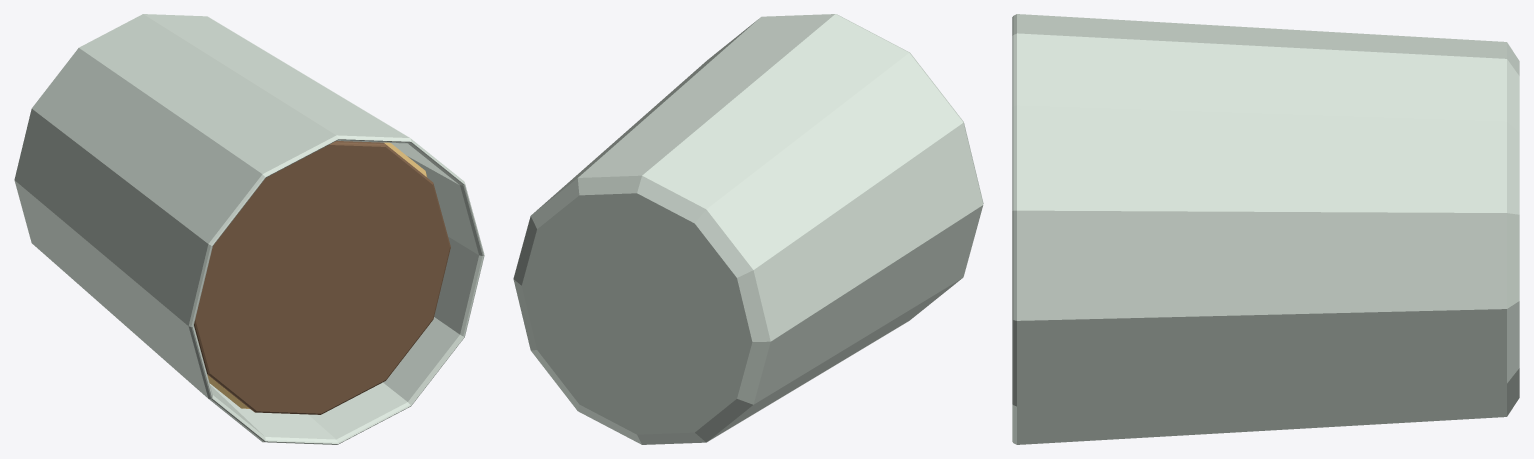
File: pudding.glb
3 renders of one model, left to right at view 1: azimuth 30°, elevation 25°; view 2: azimuth 150°, elevation 25°; view 3: azimuth 270°, elevation 25°, orthographic. The views are drawn at different scales.
Visible parts, largest first — view 1: pudding; view 2: pudding; view 3: pudding.
Boxes of the visible parts, x1,y1,x2,y2 form: pudding: (14,14,484,444); pudding: (513,14,983,444); pudding: (1012,14,1519,444).
Bounding box in the file's own units: 0.068 × 0.068 × 0.0798.
